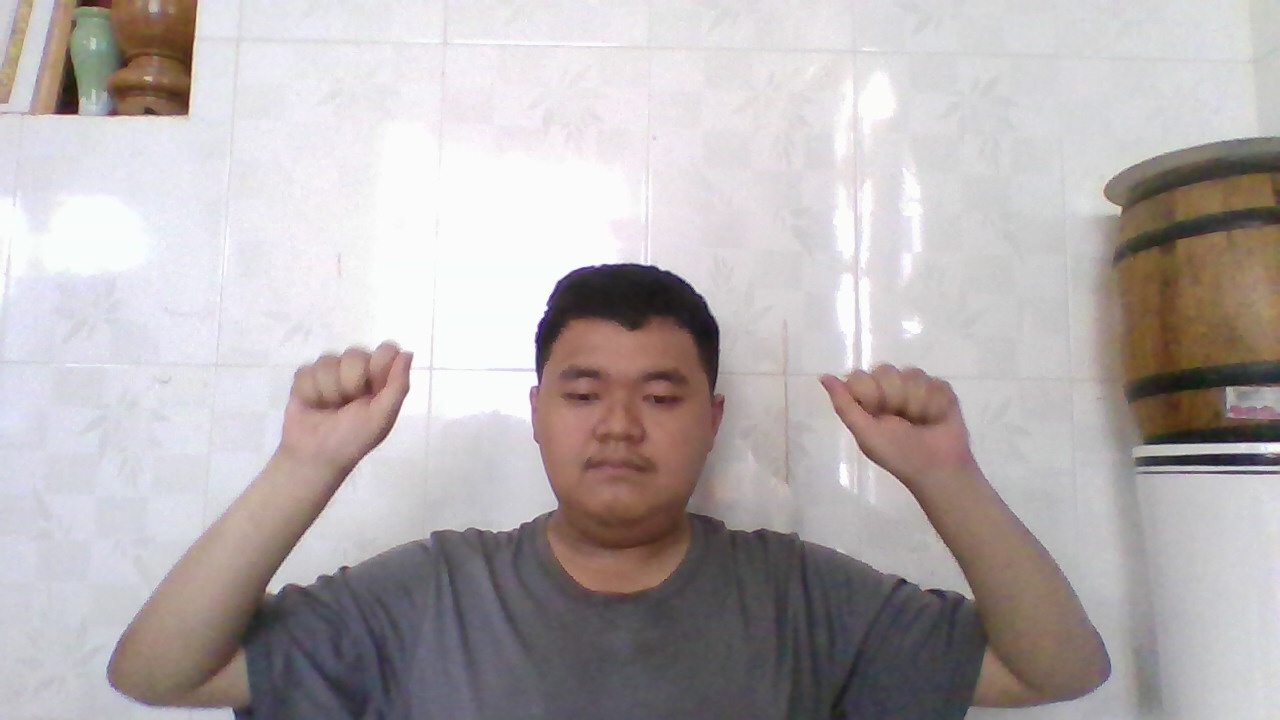A: (810, 353, 956, 481), (290, 329, 424, 468)
